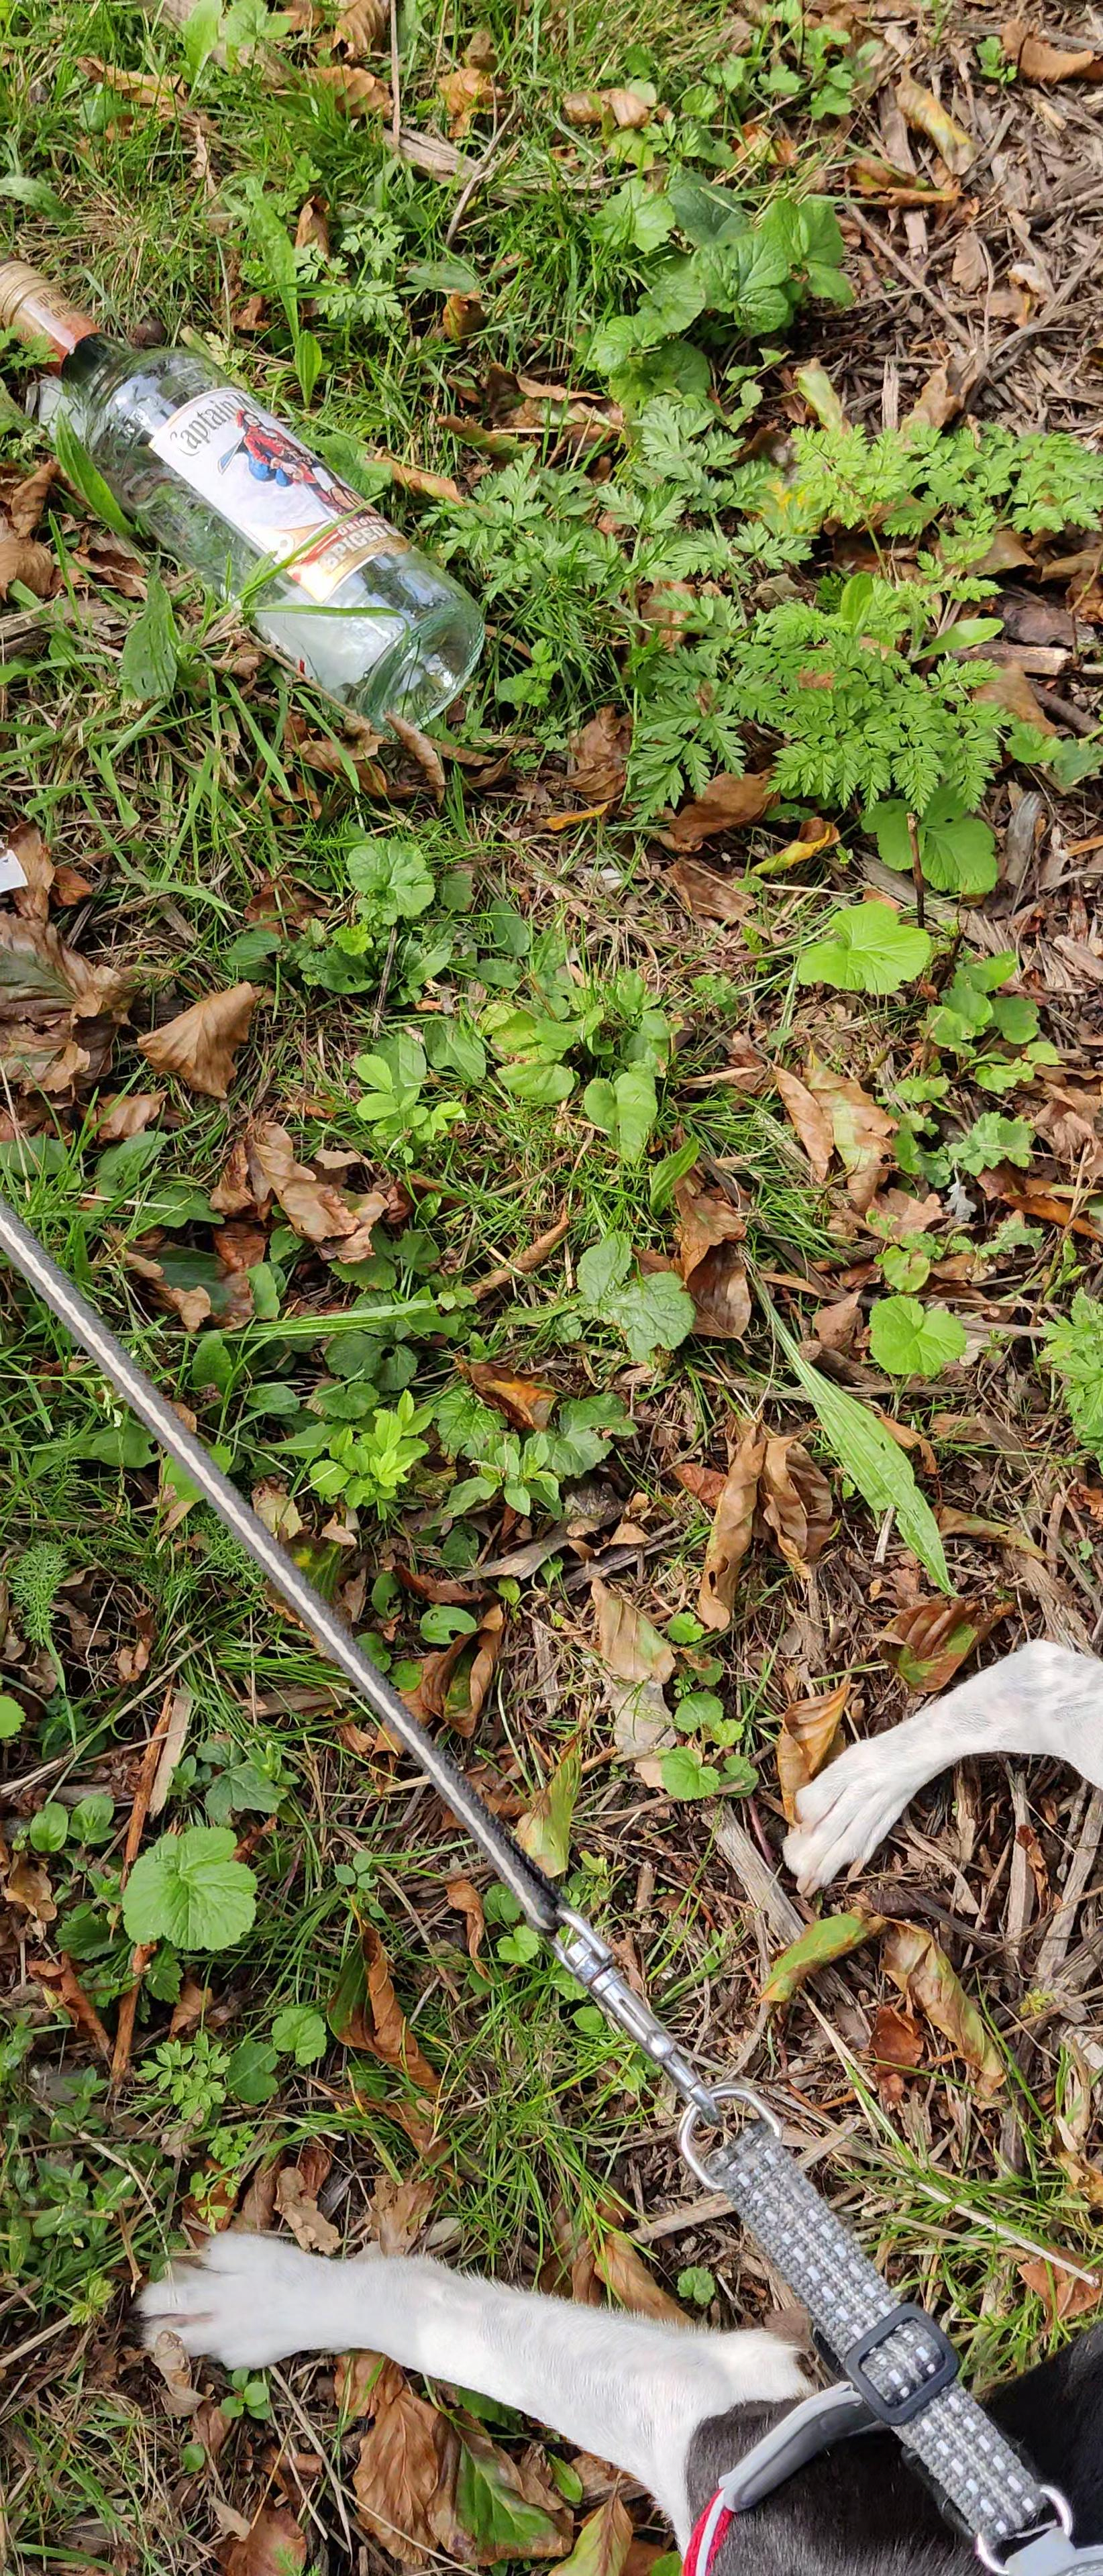Dog: (125, 1621, 1103, 2576)
